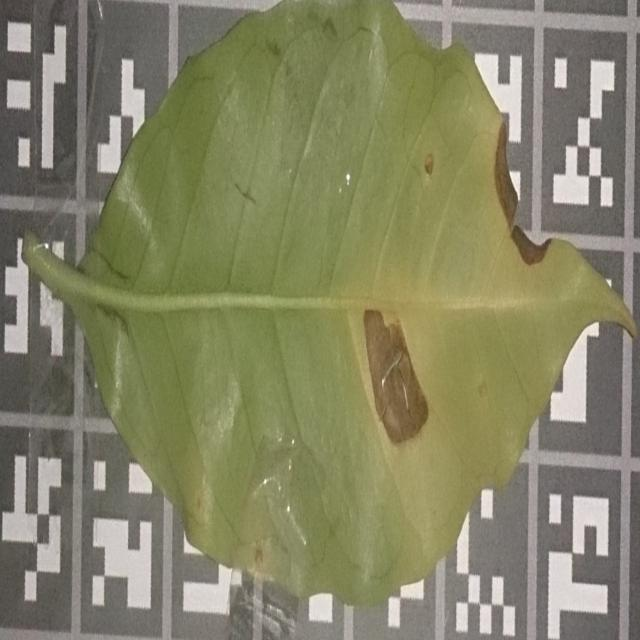Enfermedad-Mancha-de-hierro: (25, 0, 636, 609)
